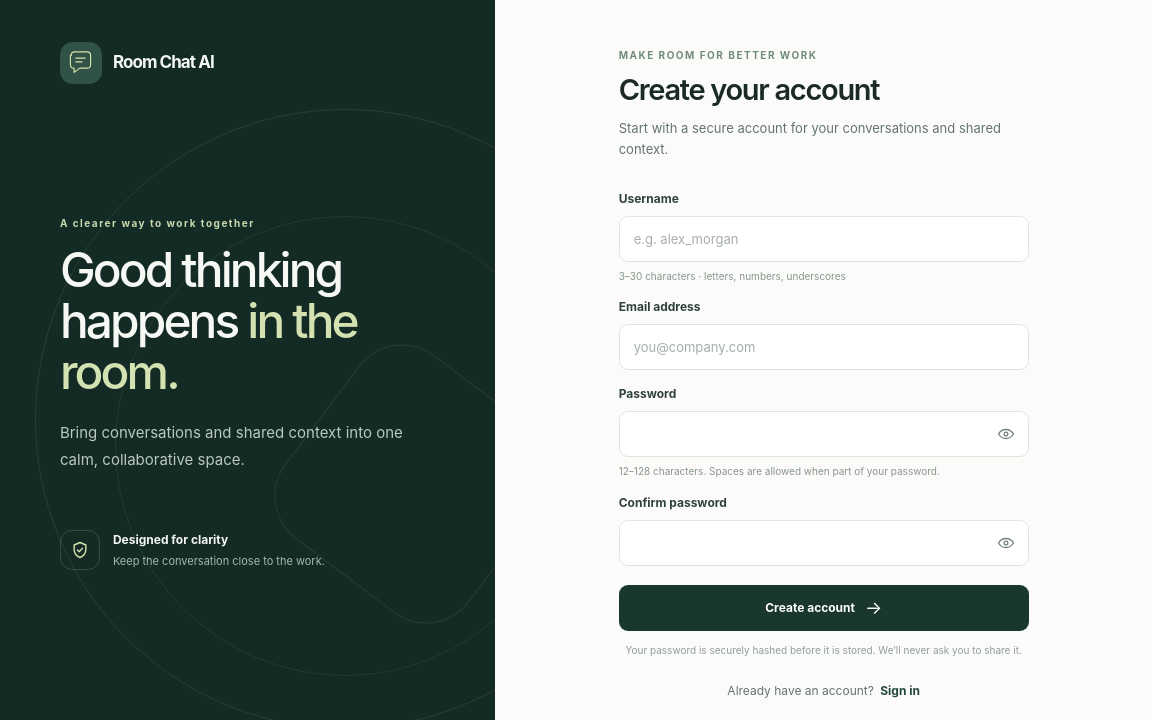
Test case: registration › creates an account, signs in through the existing API, and lands on Overview
The image size is (1152, 720).
In the field labelled "Username": (824, 239) [619,216,1029,262], type " Alex_User "
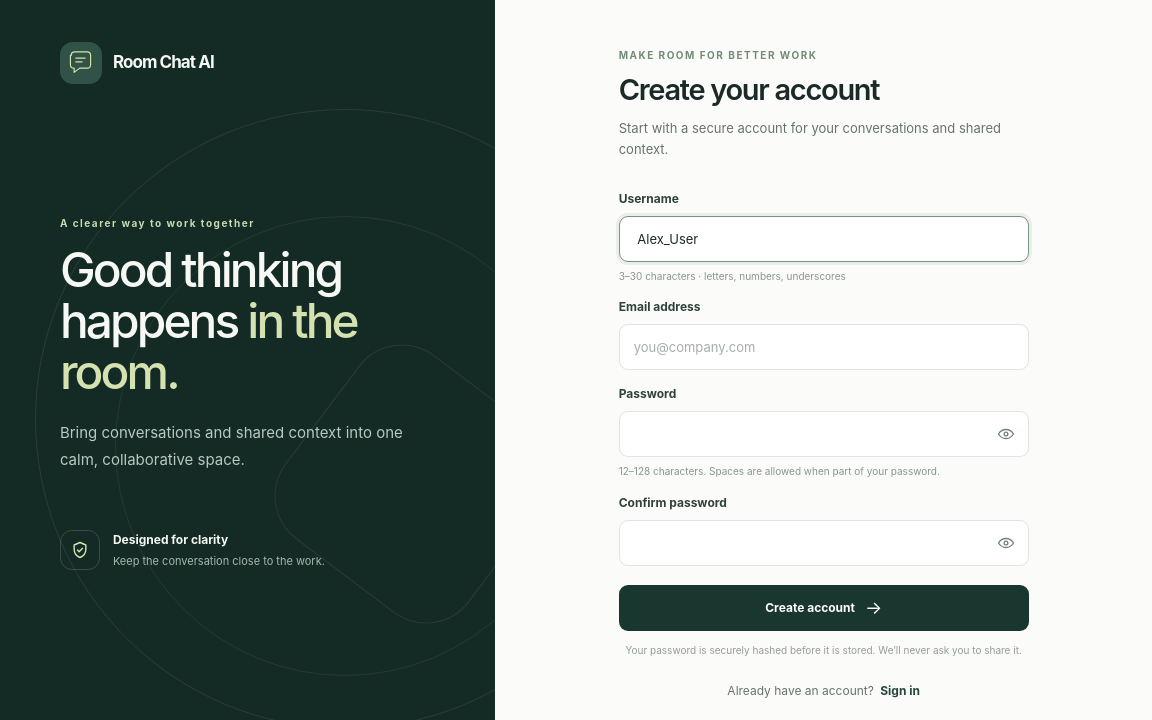
In the field labelled "Email address": (824, 347) [619,324,1029,370], type " Alex@Example.com "
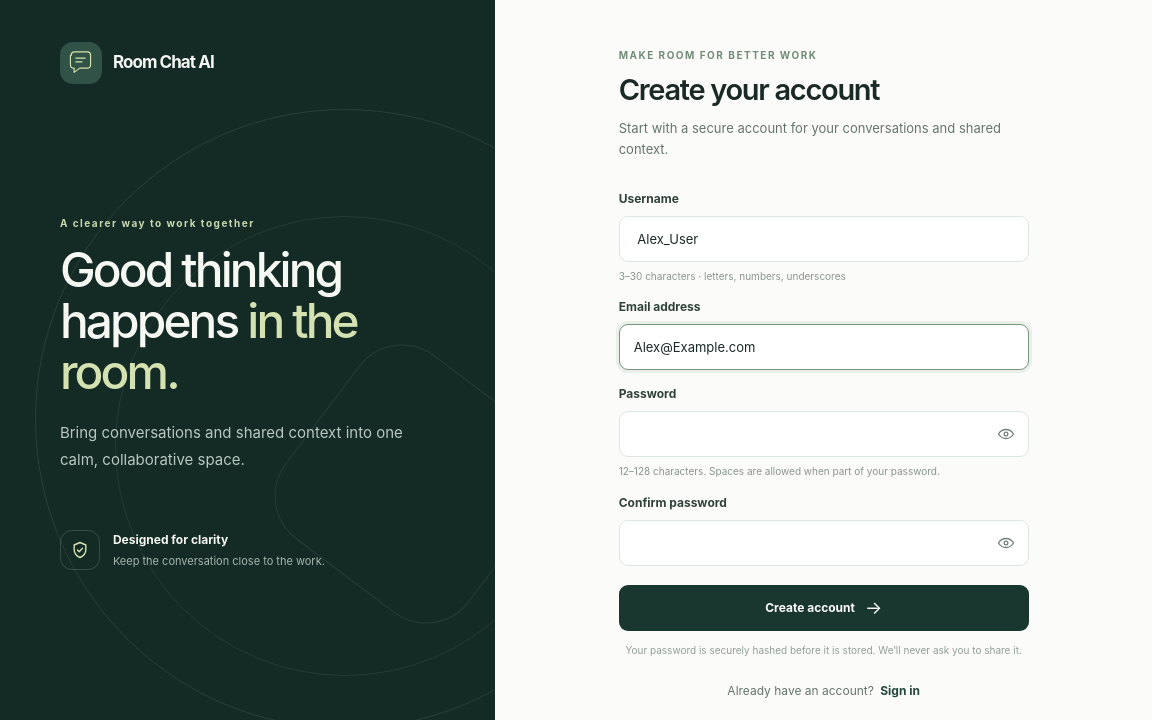
In the password field labelled "Password": (824, 434) [619,411,1029,457], type "correct horse battery"
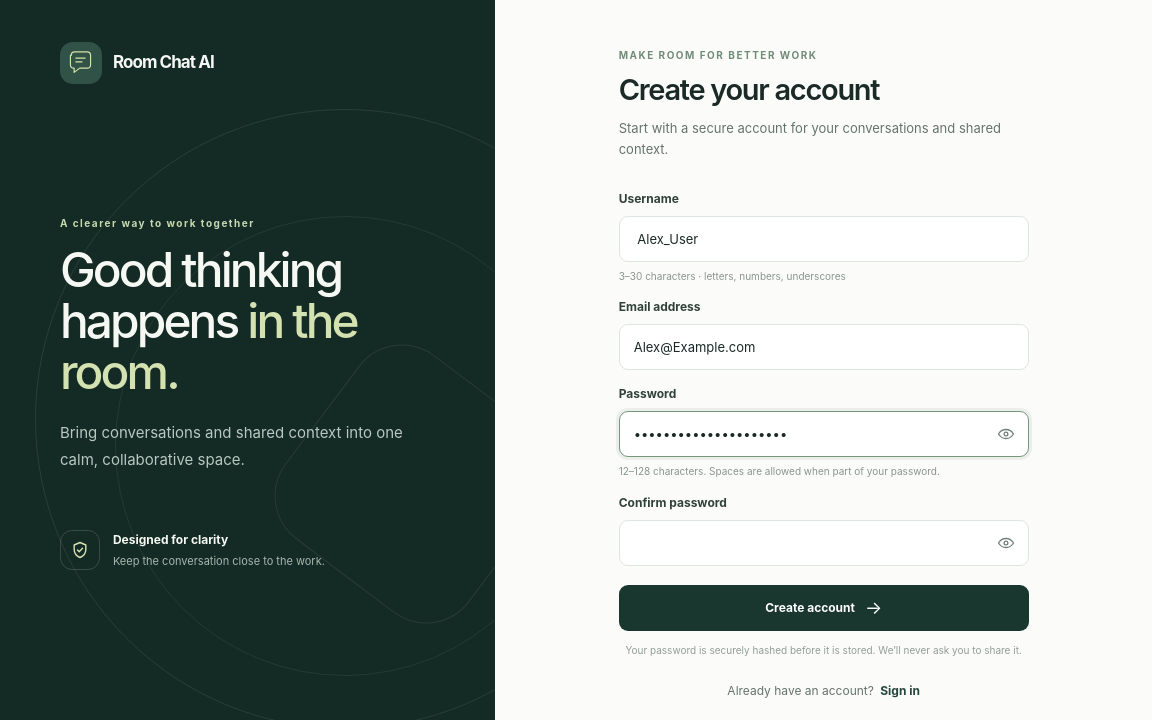
In the password field labelled "Confirm password": (824, 543) [619,520,1029,566], type "correct horse battery"
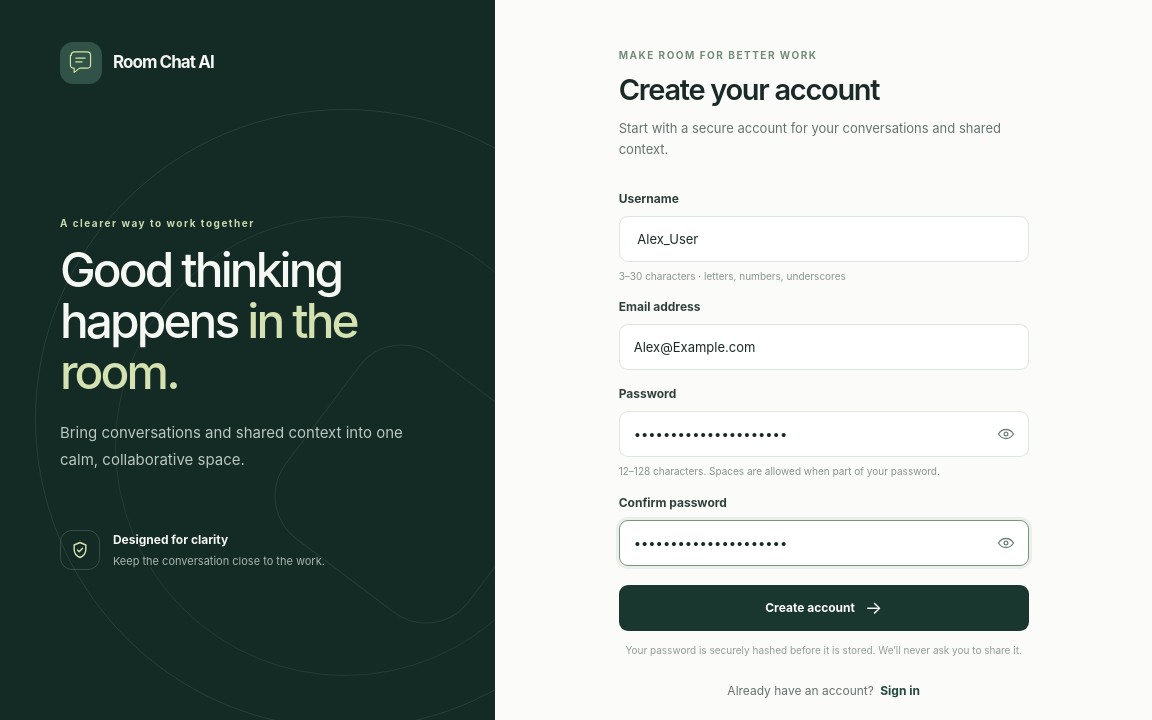
Click the button "Create account →": (824, 608) [619,585,1029,631]
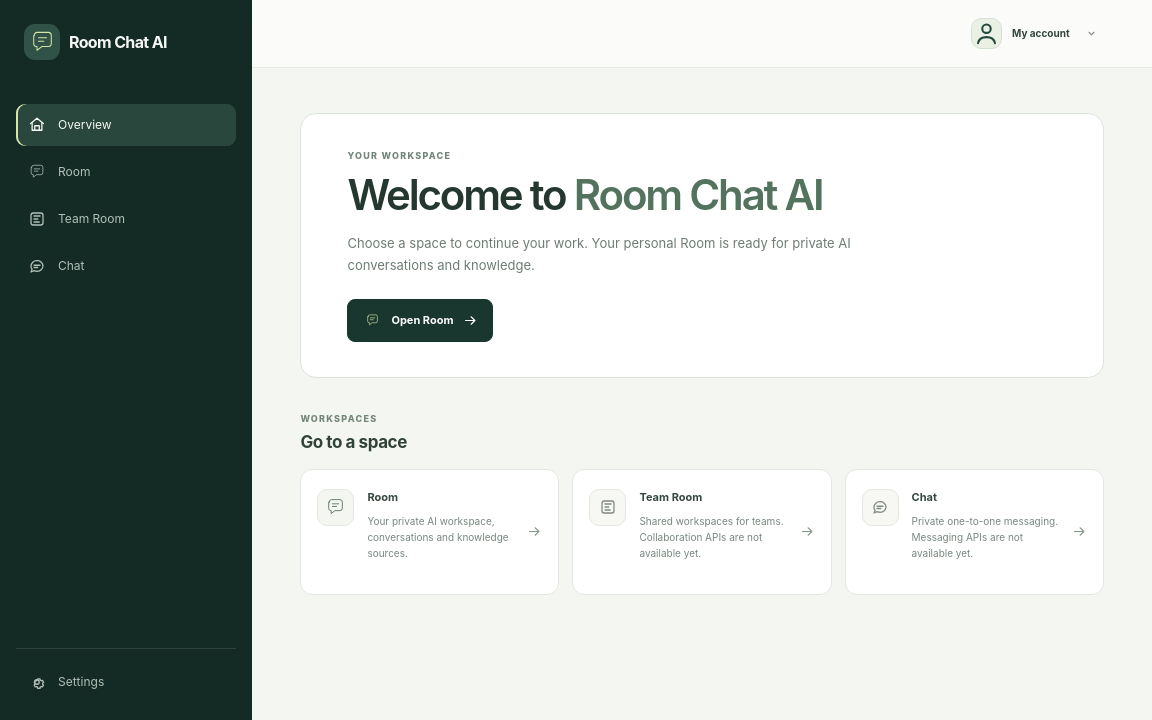
Expected: the heading "Welcome to Room Chat AI" is shown, [348,168,822,220]
